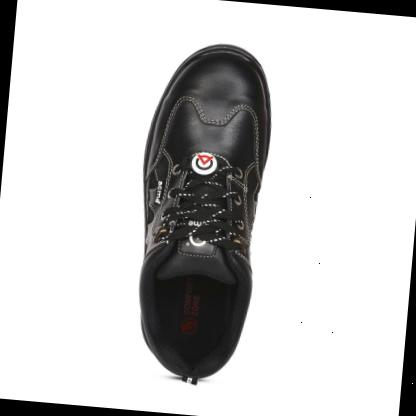bota: (118, 33, 283, 391)
